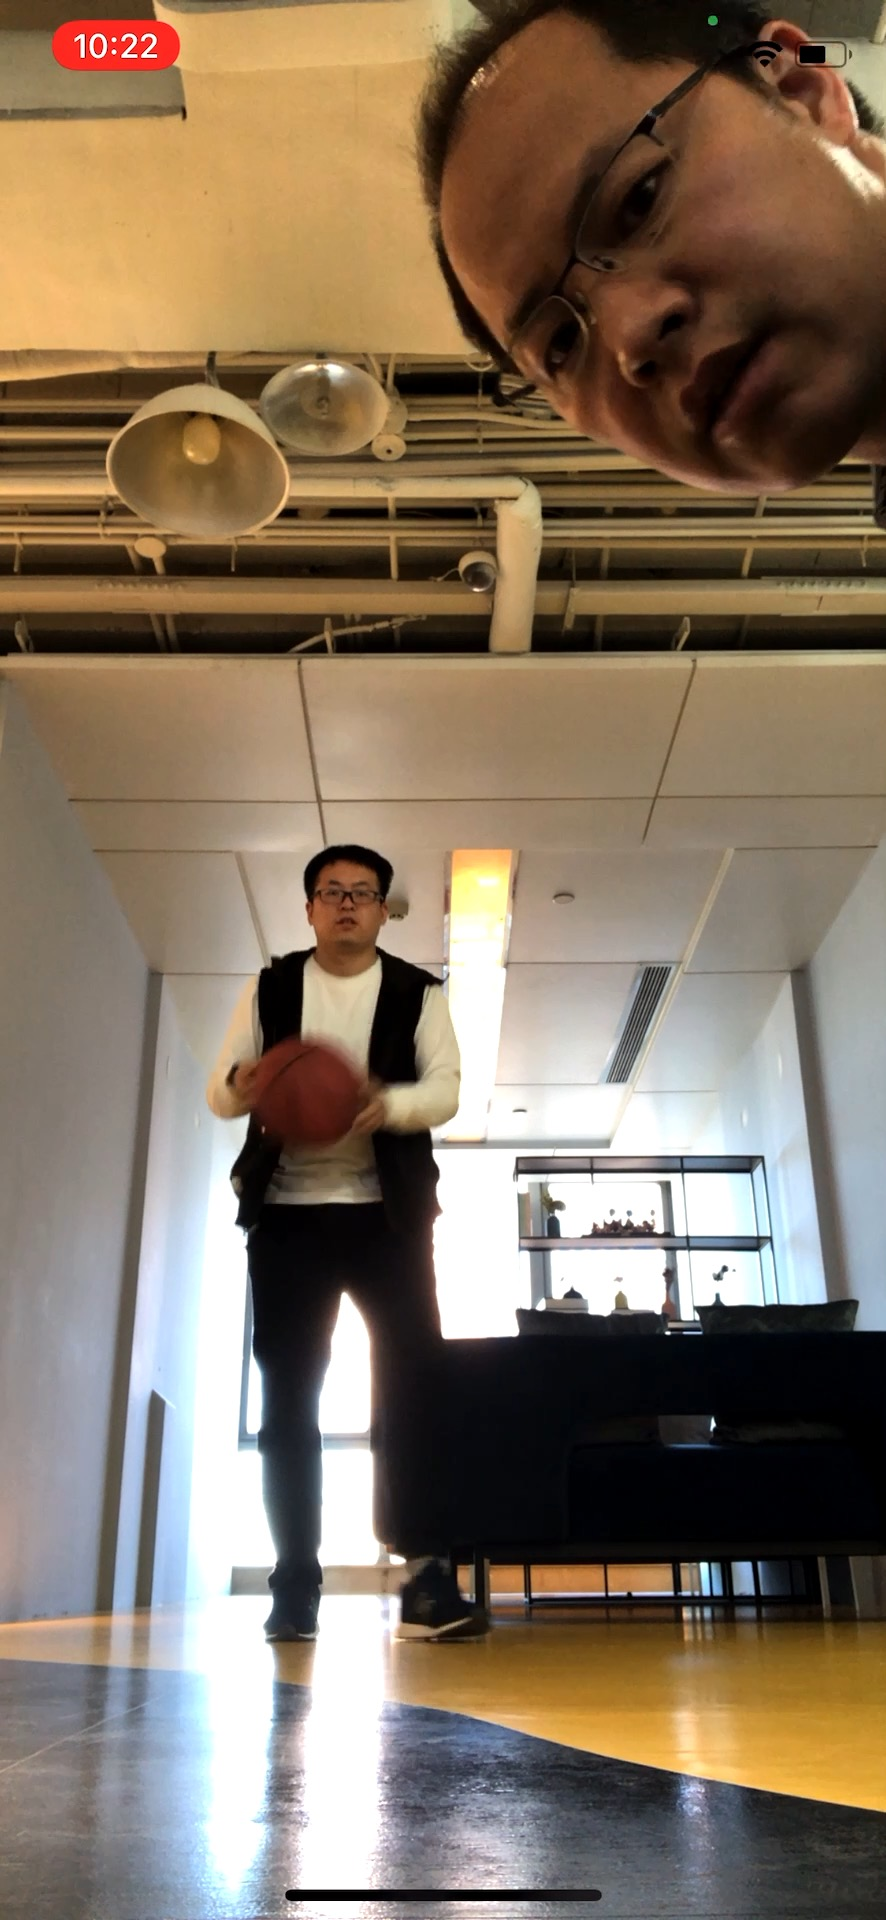ball: (245, 1037, 365, 1149)
